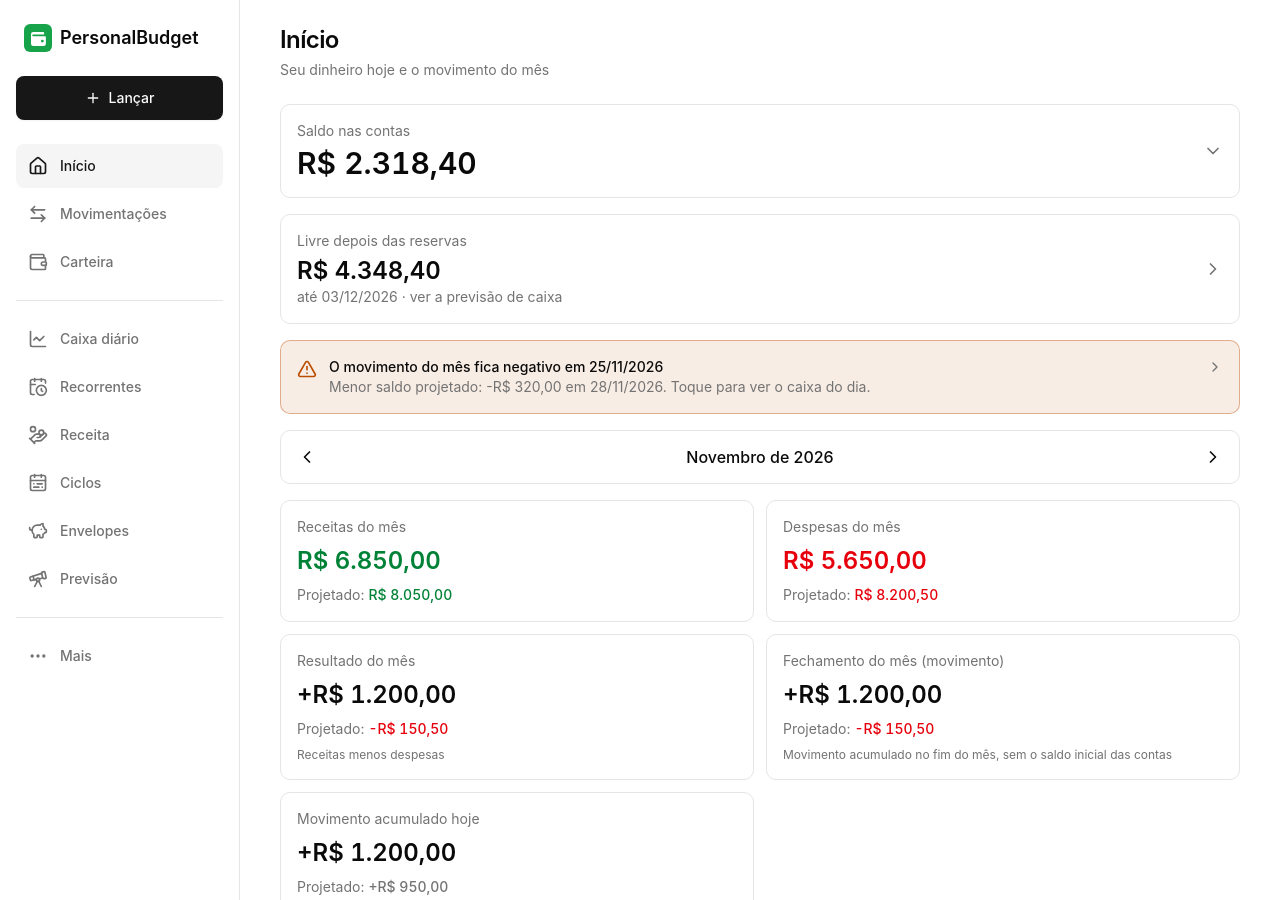
Test case: Início › should move to another month
Expected: the heading "Receitas do mês" is shown, [297,518,406,535]
Click the button named "Período anterior": (307, 457) [285,435,329,479]
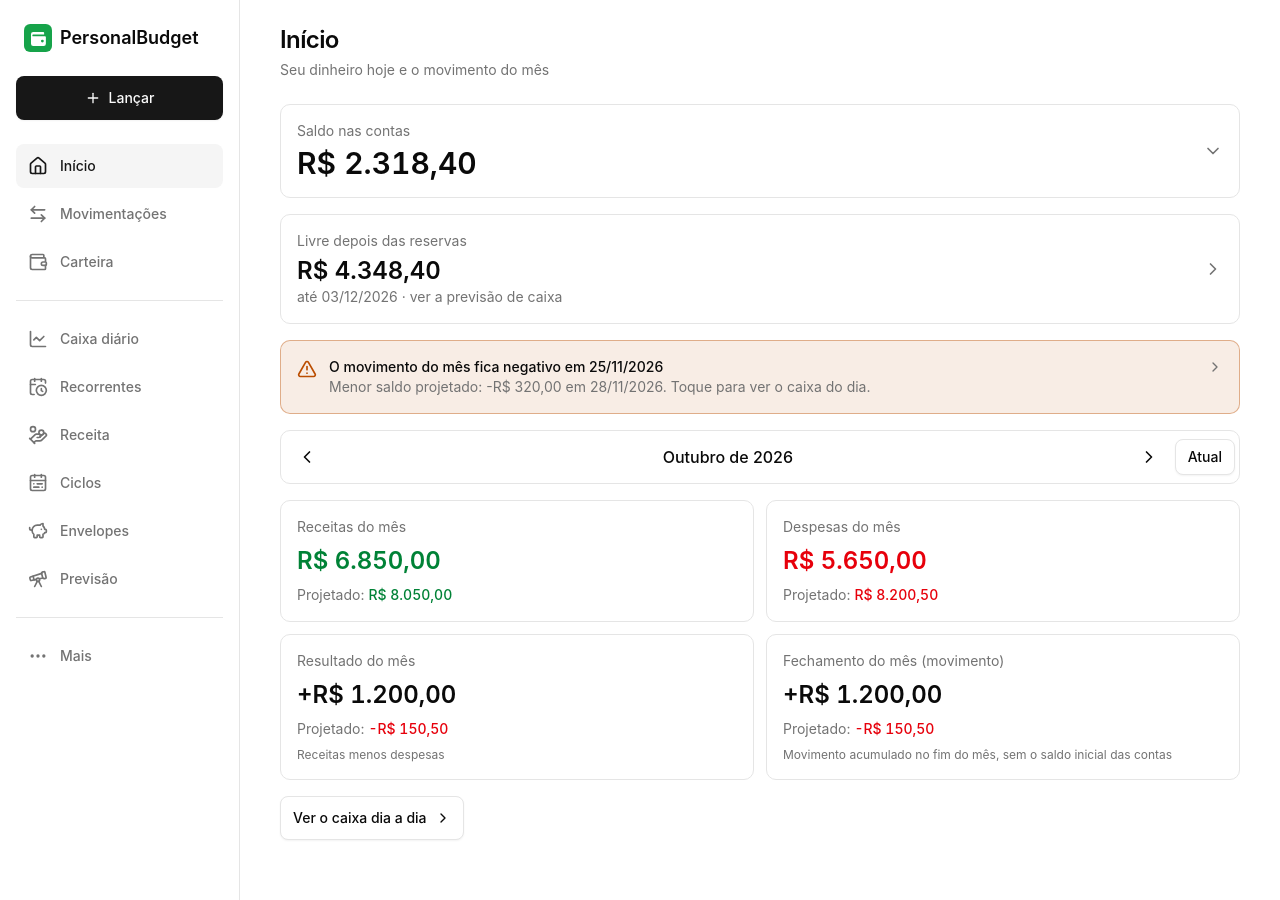
Expected: the heading "Movimento acumulado hoje" is gone
